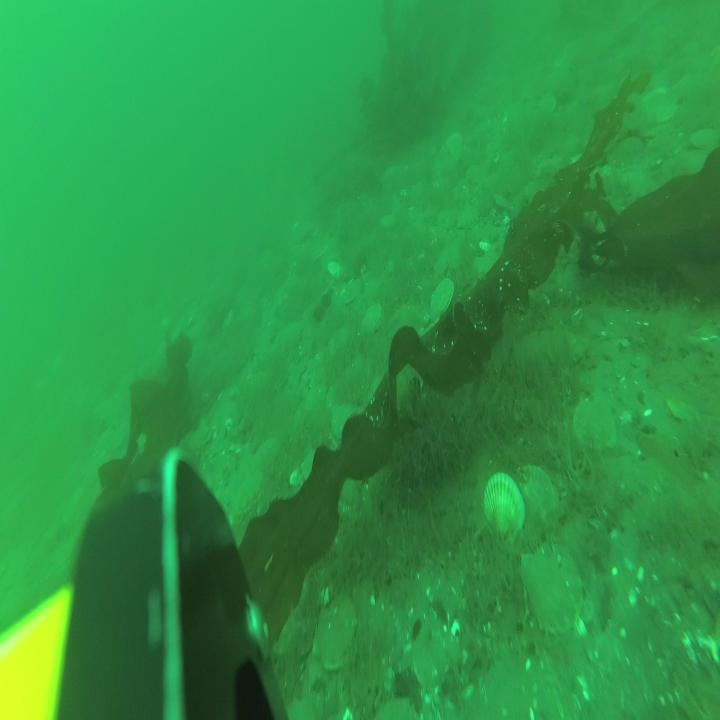scallop: (528, 544, 576, 634), (484, 473, 526, 542), (316, 602, 354, 667), (573, 397, 614, 456), (413, 632, 448, 695), (227, 458, 266, 513), (518, 470, 552, 526), (330, 403, 364, 444), (429, 279, 453, 316), (342, 274, 363, 312), (361, 304, 385, 336)
